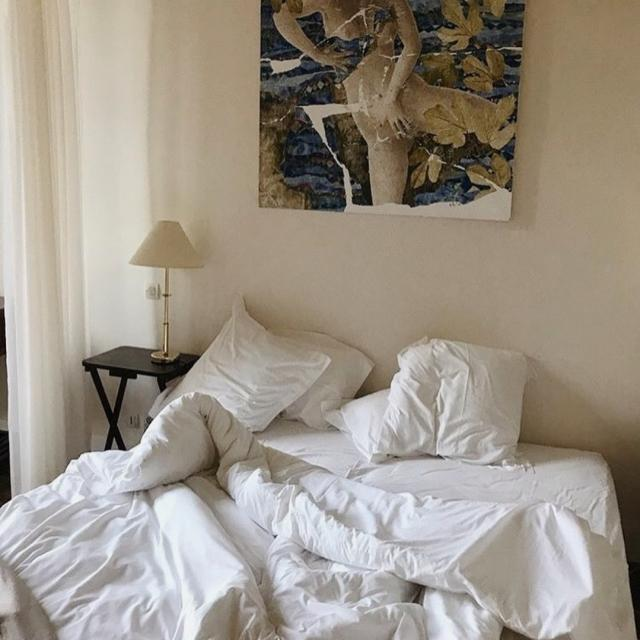bed: (1, 321, 599, 640)
